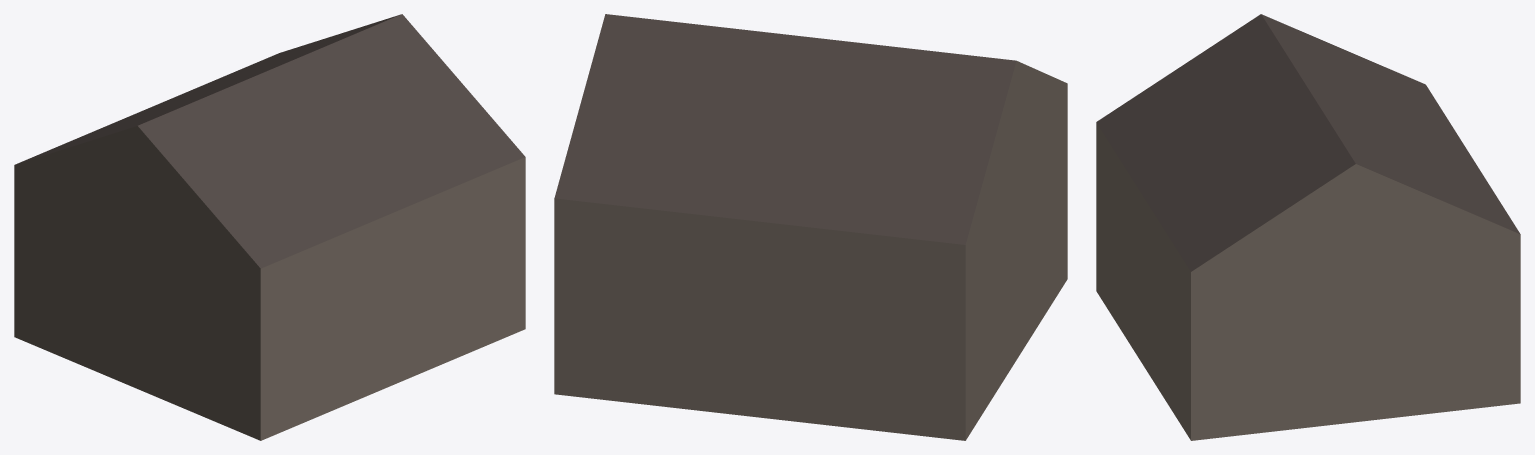
3 renders of one model, left to right at view 1: azimuth 30°, elevation 25°; view 2: azimuth 150°, elevation 25°; view 3: azimuth 270°, elevation 25°, orthographic. The views are drawn at different scales.
Parts seen in each view (by area): view 1: HP-w859488636; view 2: HP-w859488636; view 3: HP-w859488636.
Part boxes in pixels (x1=…): HP-w859488636: x1=14, y1=14, x2=525, y2=440; HP-w859488636: x1=554, y1=14, x2=1067, y2=440; HP-w859488636: x1=1096, y1=14, x2=1520, y2=440.
Size of the model in its own units: 21.41 by 13.76 by 20.49.
